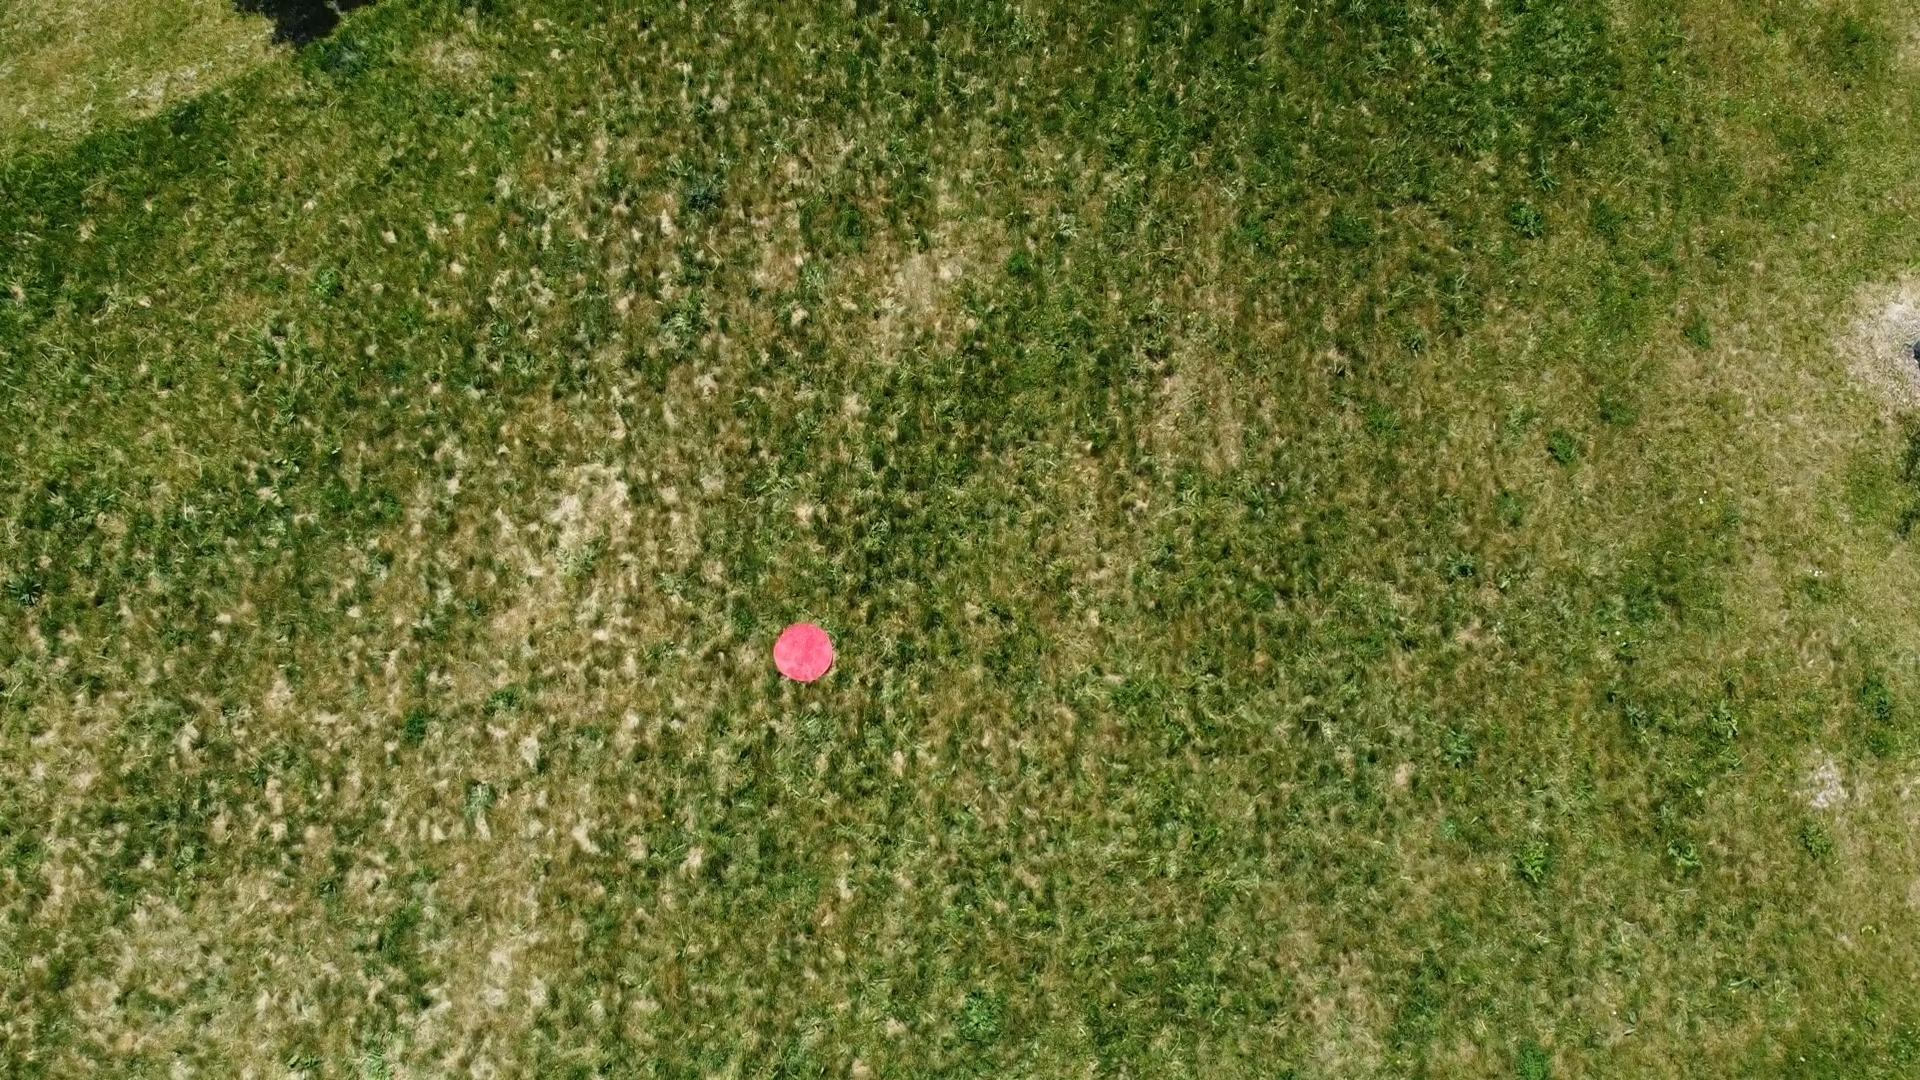Red: (769, 620, 837, 688)
